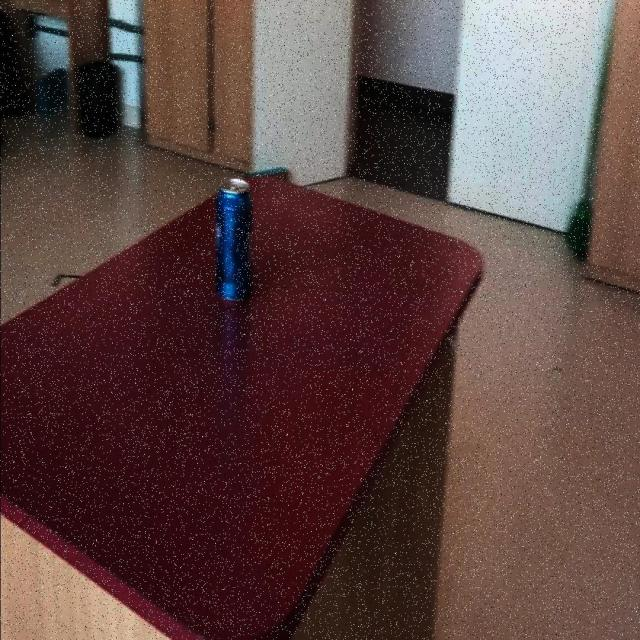Tonic: (215, 178, 254, 389), (215, 179, 254, 306)
